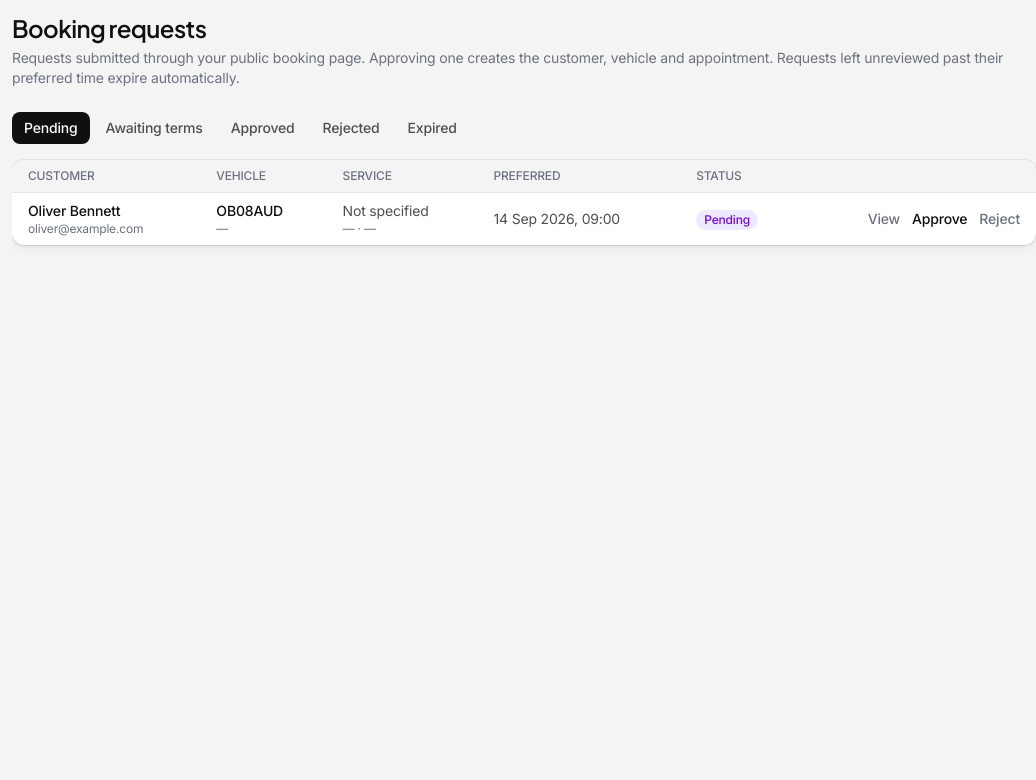
Test: BookingRequestsList — reviewing a request › renders a request with no vehicle details or service without breaking
Click the button "View" at (884, 219), box x1=868 y1=209 x2=900 y2=229
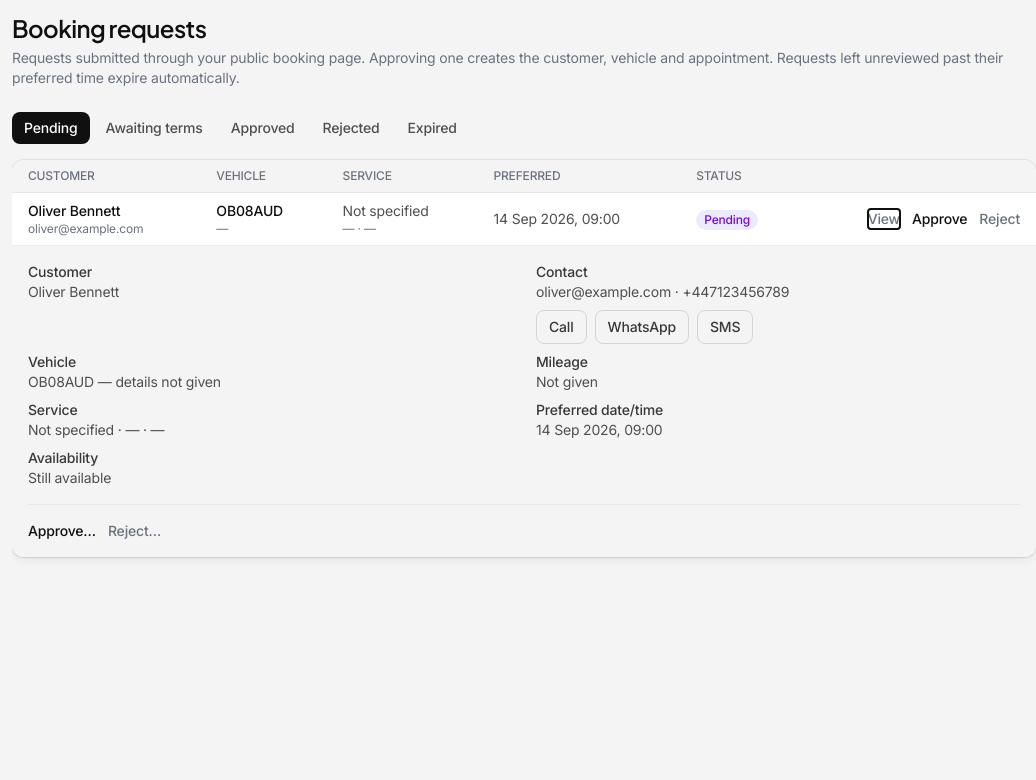
Expected: the text "Not specified" is shown, x1=343 y1=202 x2=429 y2=219
Expected: the text "OB08AUD — details not given" is shown, x1=28 y1=373 x2=221 y2=390
Expected: the text "Not given" is shown, x1=536 y1=373 x2=598 y2=390
